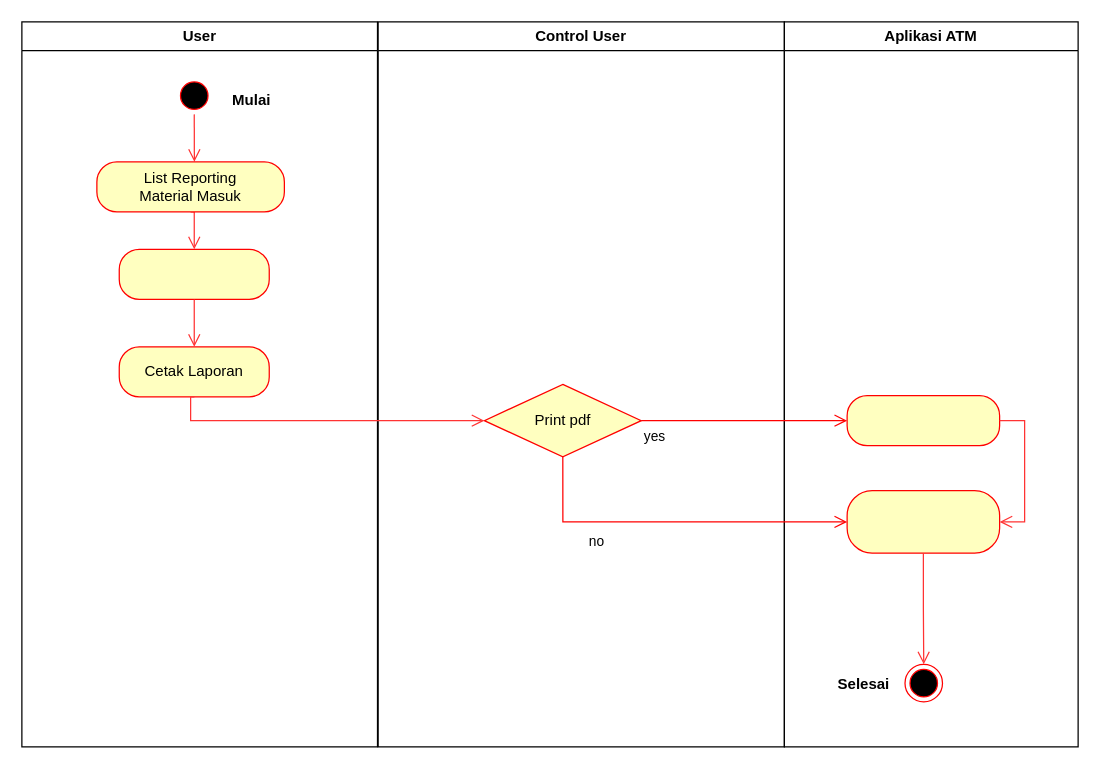
This 1100x769 diagram has some shape labels left out. The shapes that lost their labels are listed below. From the top down, each one's centre as x and y in pixels, then its label:
(193,273): Pilih Tanggal
(923,420): Cetak
(923,521): Menu Reporting Material Masuk
